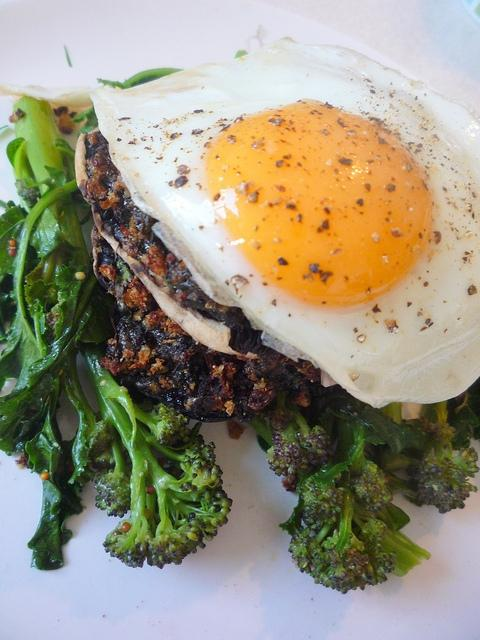broccoli: (80, 342, 232, 570), (283, 416, 434, 595), (407, 402, 478, 514), (256, 390, 330, 491)
